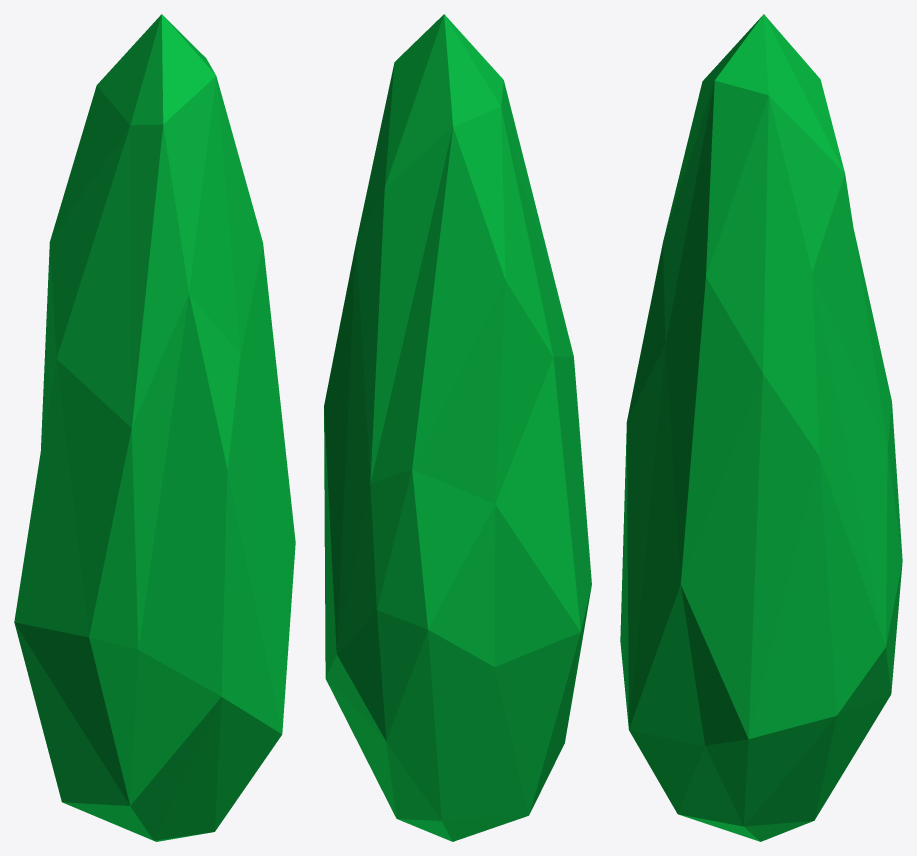
The model's file is stm_env_tall_bush.fbx.
3 views of the same model, side by side, from view 1: azimuth 30°, elevation 25°; view 2: azimuth 150°, elevation 25°; view 3: azimuth 270°, elevation 25° (orthographic).
Parts seen in each view (by area): view 1: Sphere; view 2: Sphere; view 3: Sphere.
Part boxes in pixels (x1,y1,x2,y2): Sphere: (14,14,295,841); Sphere: (324,14,591,841); Sphere: (620,14,902,841).
Bounding box in the file's own units: 560 × 1732 × 533.
